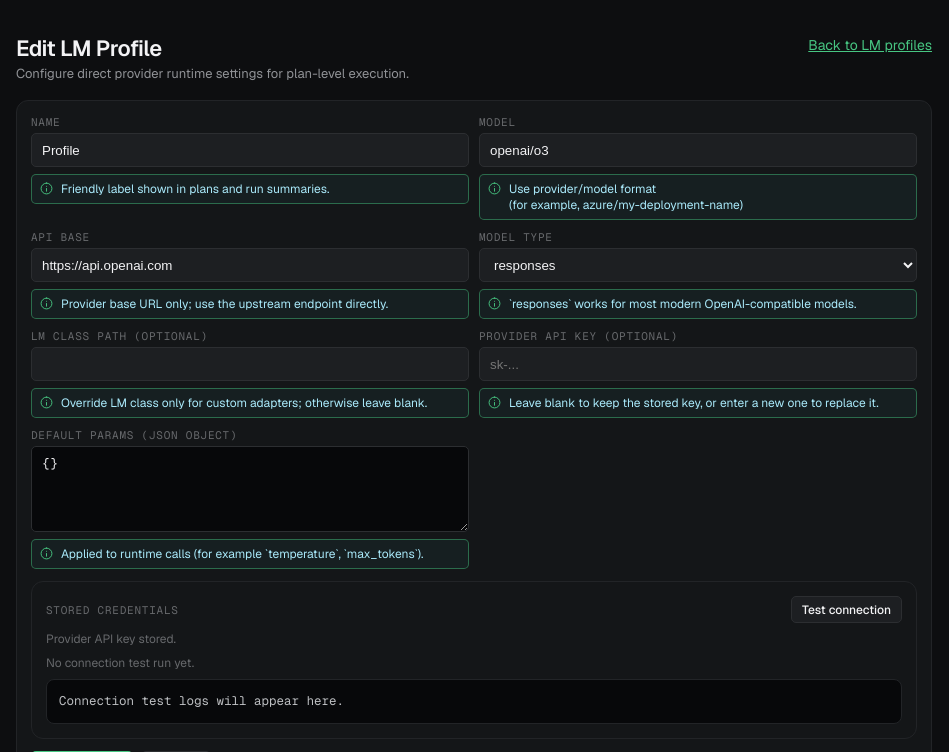
Test case: LmProfilesPage › shows and tests stored credentials on edit page
Check: the text "Provider API key stored." is shown, box 46,631 -> 176,647
Click the button "Test connection" at point(847, 610), box 791,596 -> 902,623
(page scrolled)
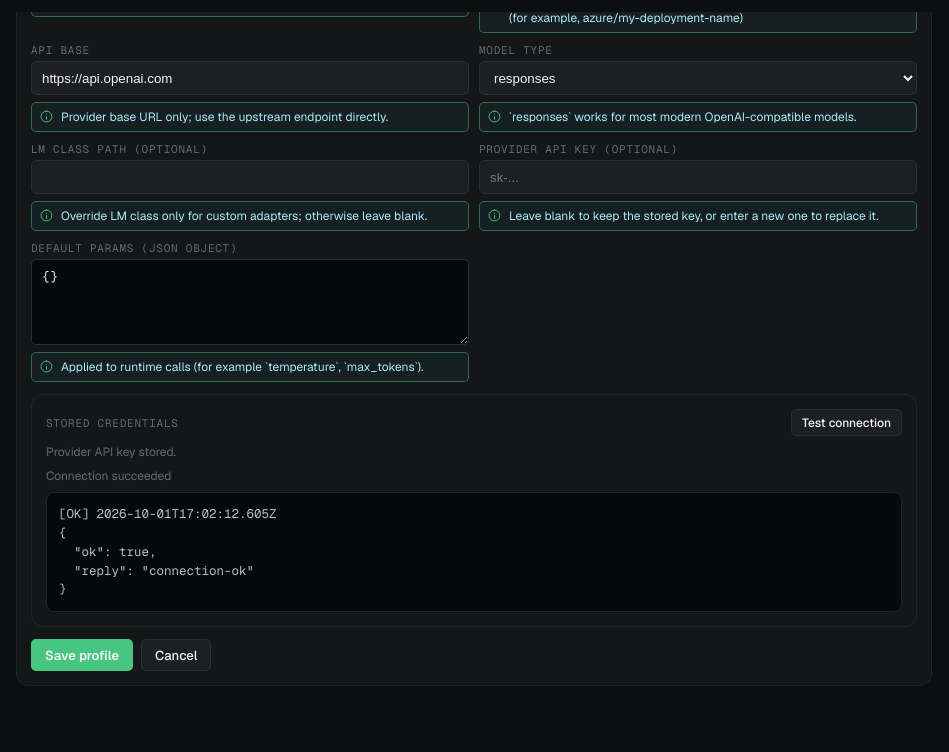
Check: the text "Connection succeeded" is shown, box 46,468 -> 171,484
Check: the text "connection-ok" is shown, box 59,505 -> 276,597
